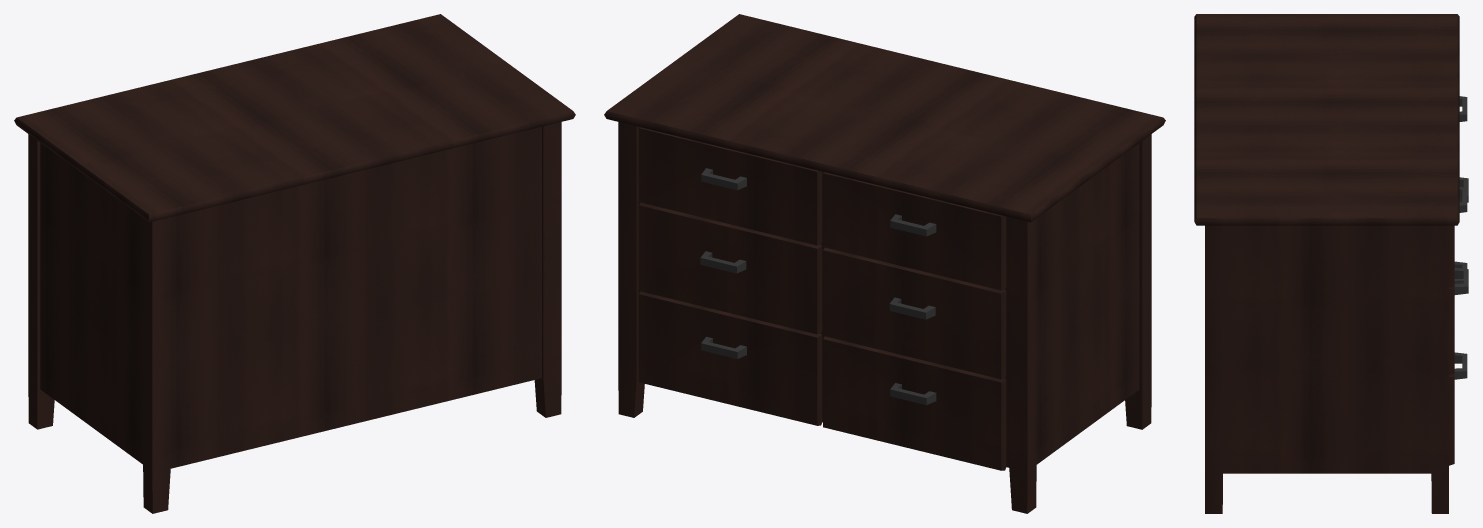
File: dressertextured.fbx
3 views of the same model, side by side, from view 1: azimuth 30°, elevation 25°; view 2: azimuth 150°, elevation 25°; view 3: azimuth 270°, elevation 25° (orthographic).
Parts seen in each view (by area): view 1: dresser; view 2: dresser; view 3: dresser.
Boxes of the visible parts, <box> form: dresser: <box>14,14,575,513</box>; dresser: <box>604,14,1165,513</box>; dresser: <box>1194,14,1468,513</box>.
Bounding box in the file's own units: 288 × 196 × 162.
Materials: 2 (1 with a texture image).
